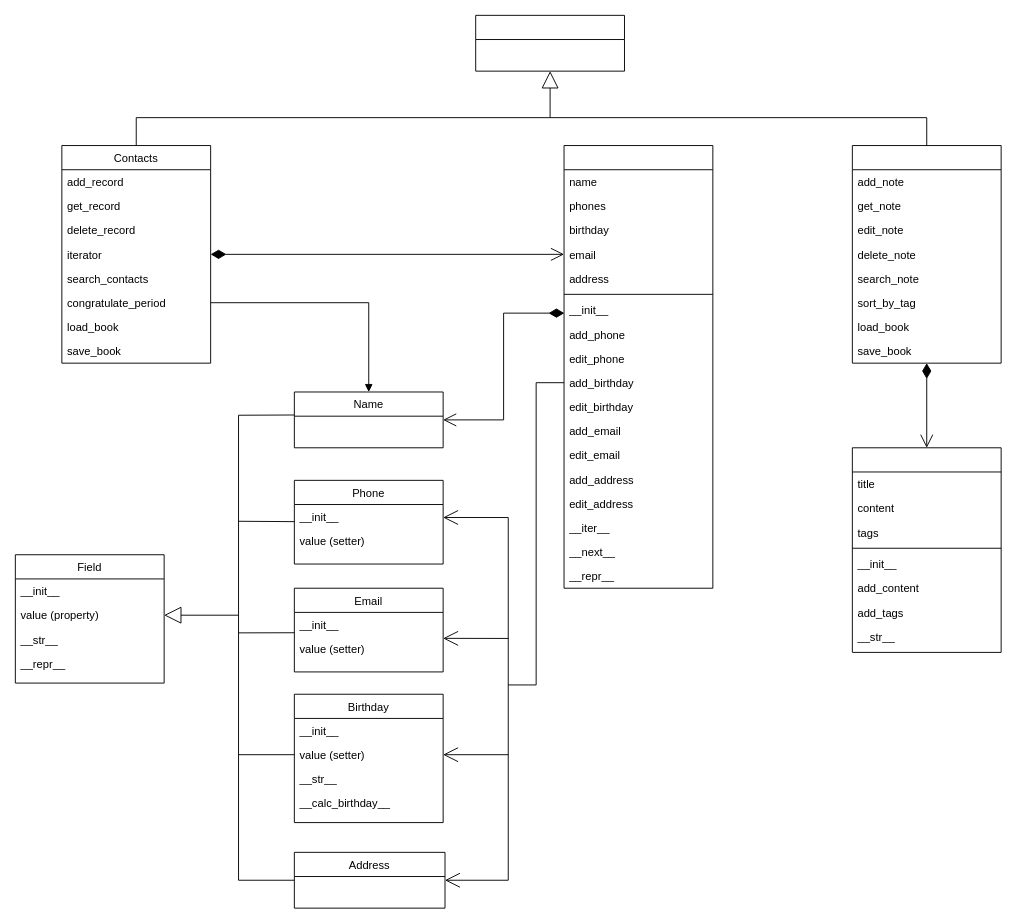
Image size: 1016x923. Some labels were removed from this diagram. Each missing label, with the box of its shape:
Note: (851, 447, 1001, 652)
Notes: (851, 145, 1001, 363)
Record: (563, 145, 713, 588)
UserDict: (475, 14, 624, 71)
